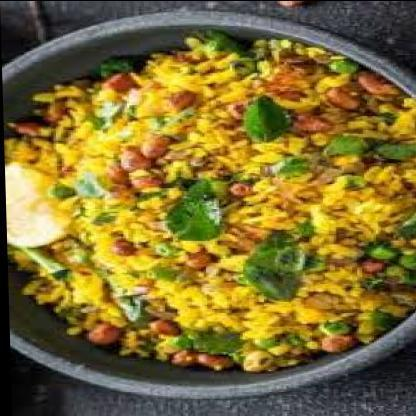poha: (1, 30, 416, 372)
